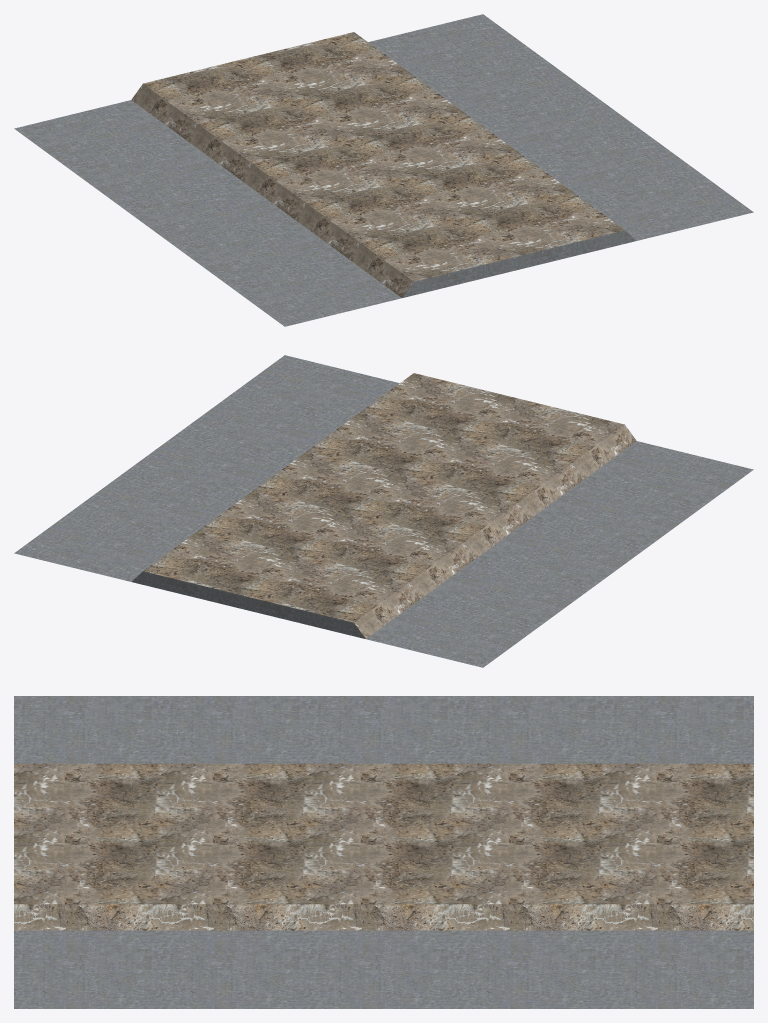
3 views of the same model, one above another, from view 1: azimuth 30°, elevation 25°; view 2: azimuth 150°, elevation 25°; view 3: azimuth 270°, elevation 25° (orthographic). The views are drawn at different scales.
Visible parts, largest first — view 1: TexturesCom_ConcreteBare0398_7_seamless_S, TexturesCom_ConcreteRough0076_1_seamless_S; view 2: TexturesCom_ConcreteBare0398_7_seamless_S, TexturesCom_ConcreteRough0076_1_seamless_S; view 3: TexturesCom_ConcreteRough0076_1_seamless_S, TexturesCom_ConcreteBare0398_7_seamless_S.
Boxes of the visible parts, <box> form: TexturesCom_ConcreteBare0398_7_seamless_S: <box>14,14,753,326</box>; TexturesCom_ConcreteRough0076_1_seamless_S: <box>131,32,624,297</box>; TexturesCom_ConcreteBare0398_7_seamless_S: <box>14,355,753,667</box>; TexturesCom_ConcreteRough0076_1_seamless_S: <box>143,373,636,638</box>; TexturesCom_ConcreteRough0076_1_seamless_S: <box>14,763,753,930</box>; TexturesCom_ConcreteBare0398_7_seamless_S: <box>14,696,753,1008</box>.
Size of the model in its own units: 5 by 0.1384 by 5.
Materials: 2 (2 with a texture image).
